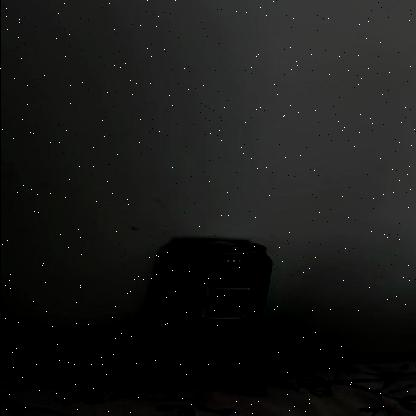Can: (152, 232, 273, 396)
